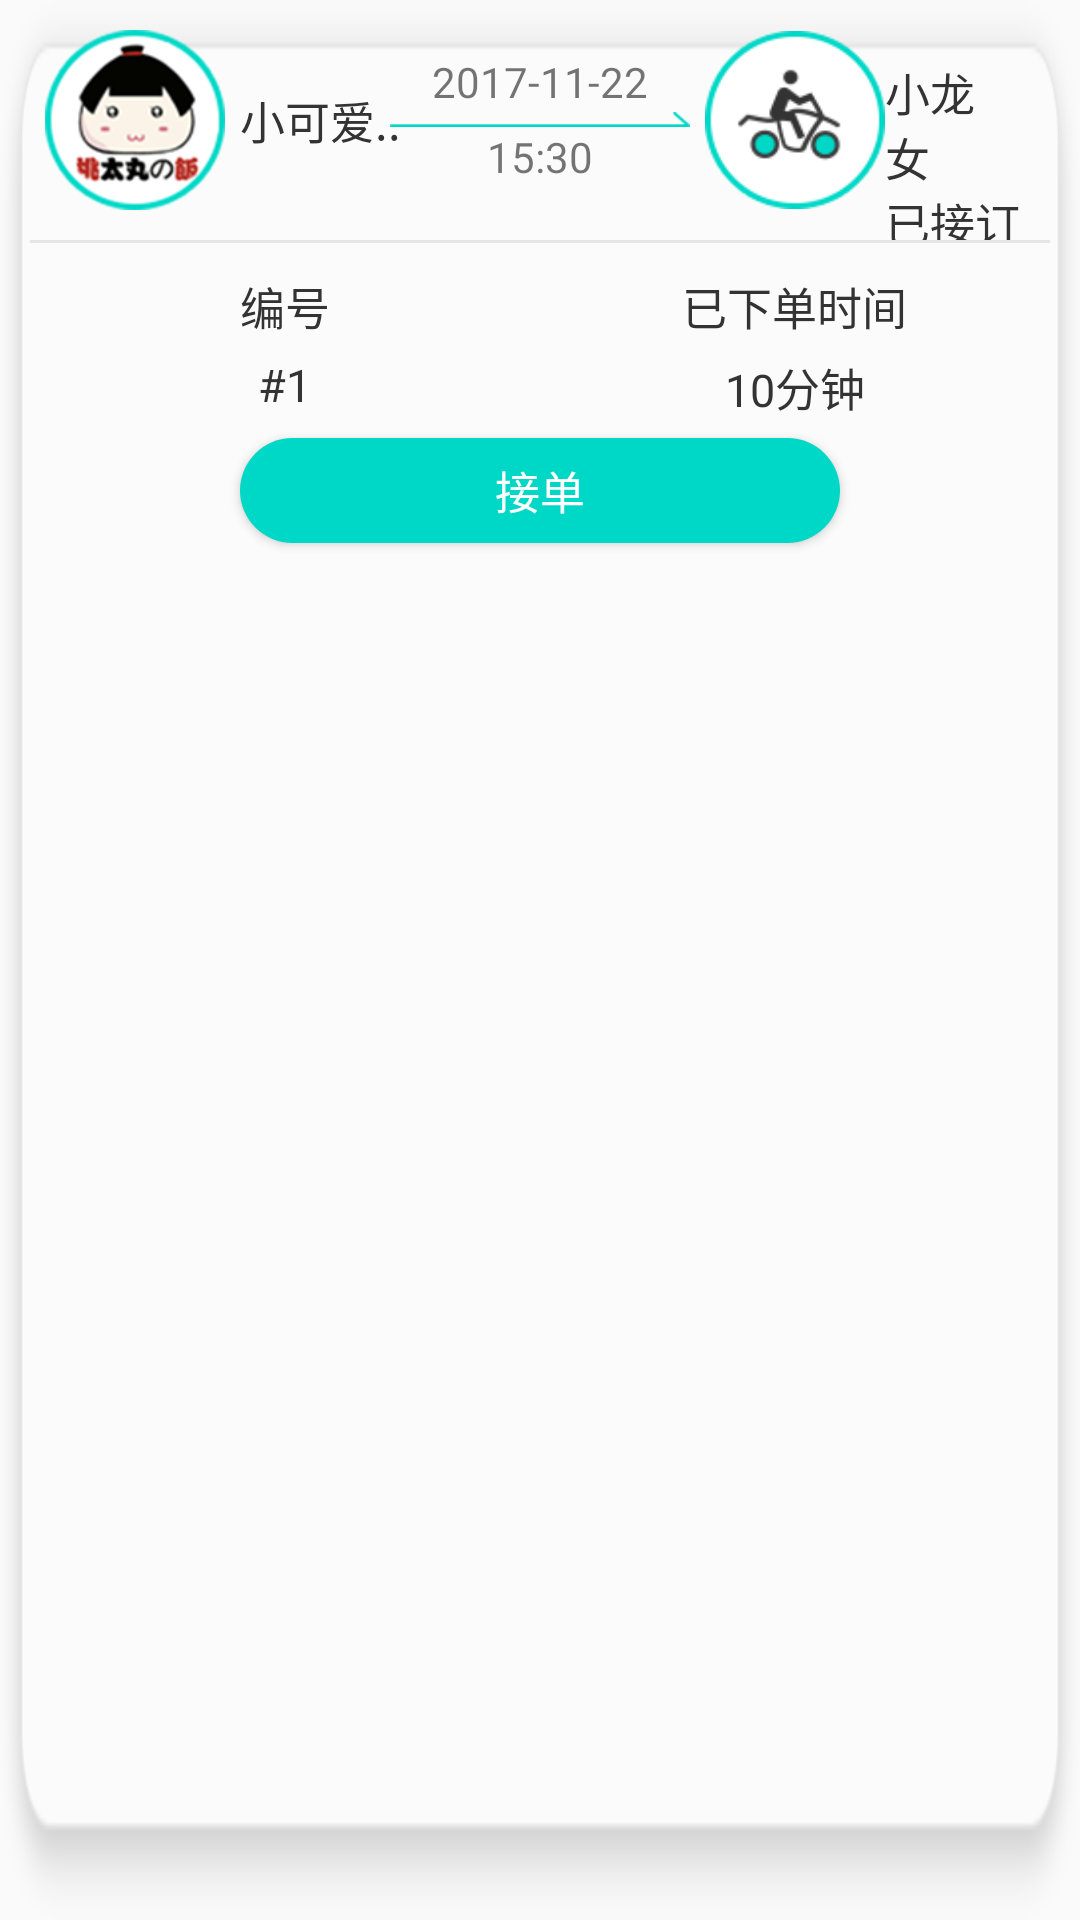

Icon click points for this 1080w x 1920h phone screenshot, format [x,y]:
auditing details item rider: [795,120]
